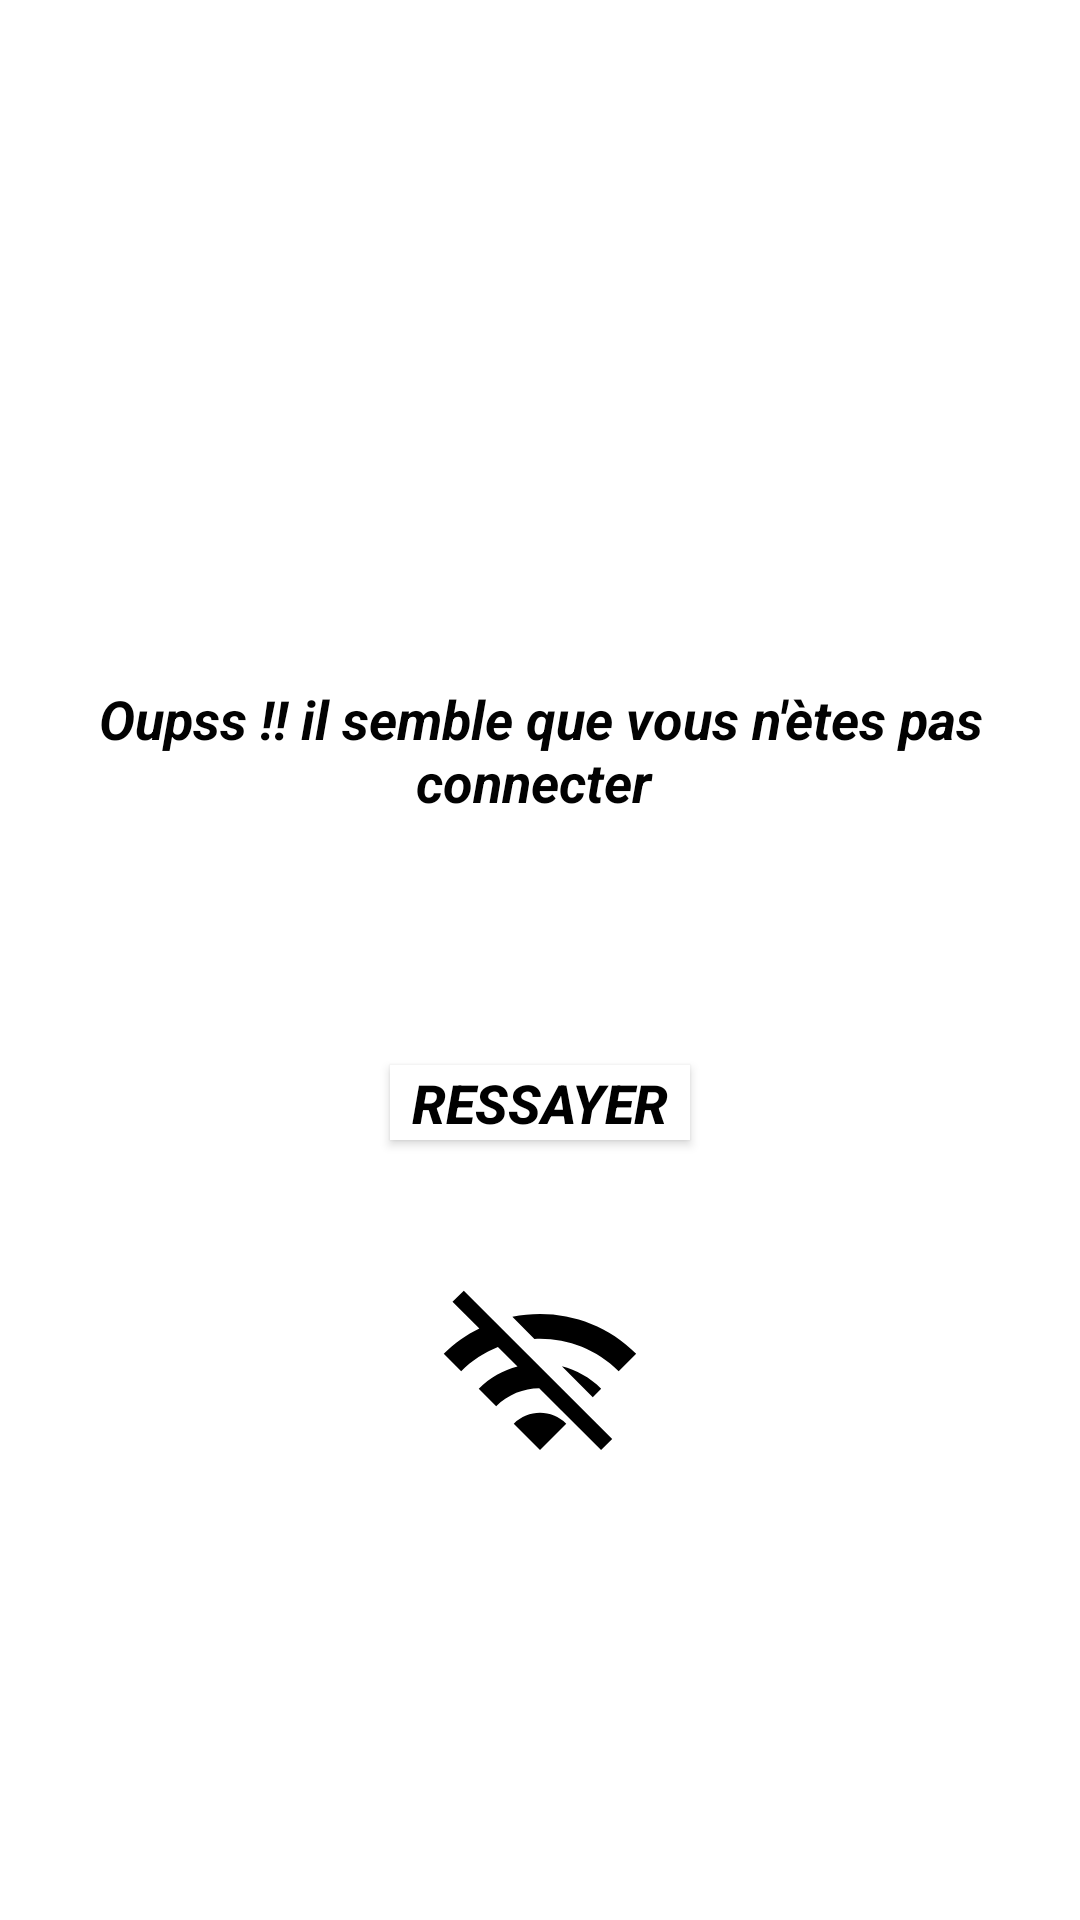

Where icons sit on this 1080w x 1920h app screen, as [x1, y1, x2, y2]:
wifi off: [444, 1291, 636, 1450]
